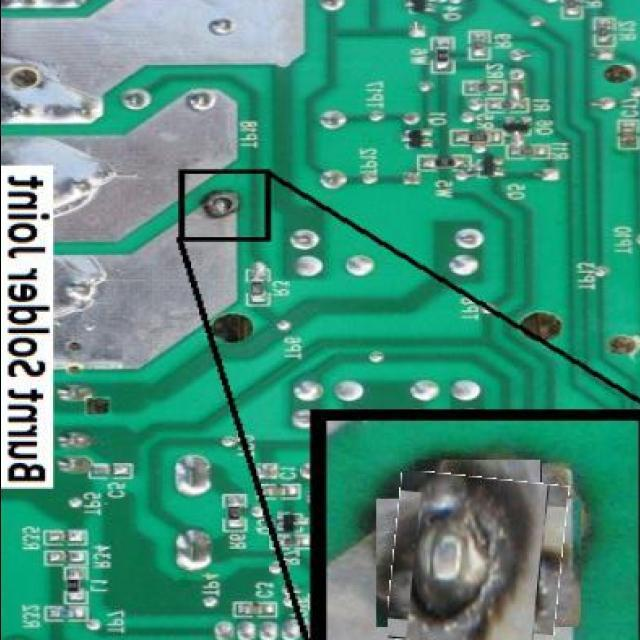Burn: (390, 474, 566, 640)
